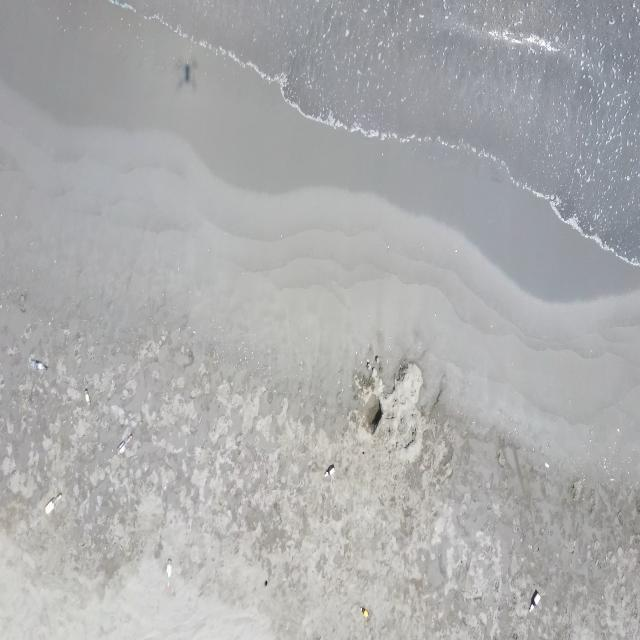glass: (116, 433, 132, 457), (45, 494, 62, 514), (528, 592, 540, 613), (165, 559, 173, 590), (30, 358, 47, 369), (324, 467, 336, 478), (84, 389, 91, 406), (360, 606, 369, 618)
